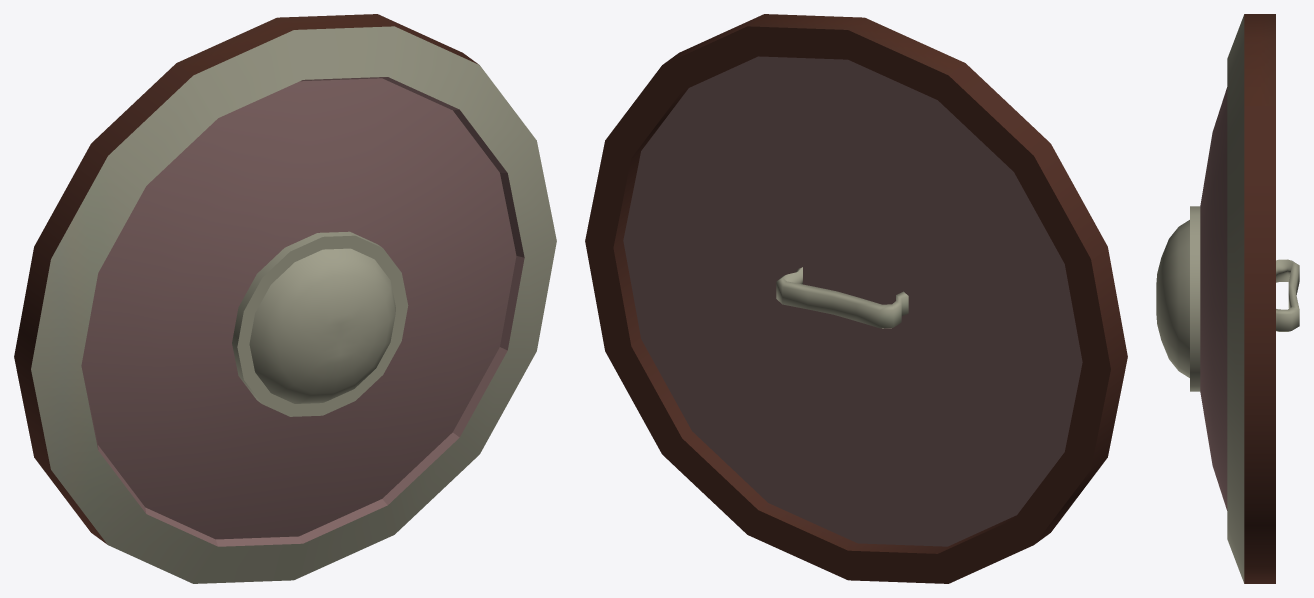
File: SM_Shield.fbx
The picture shows the model from 3 angles, left to right: view 1: azimuth 30°, elevation 25°; view 2: azimuth 150°, elevation 25°; view 3: azimuth 270°, elevation 25°; orthographic projection. The views are drawn at different scales.
Parts seen in each view (by area): view 1: SM_Shield; view 2: SM_Shield; view 3: SM_Shield.
Boxes of the visible parts, box(x1,y1,x2,y2) form: SM_Shield: box(14, 14, 556, 583); SM_Shield: box(585, 14, 1127, 583); SM_Shield: box(1156, 14, 1299, 583).
Bounding box in the file's own units: 46.85 × 46.85 × 11.77.
